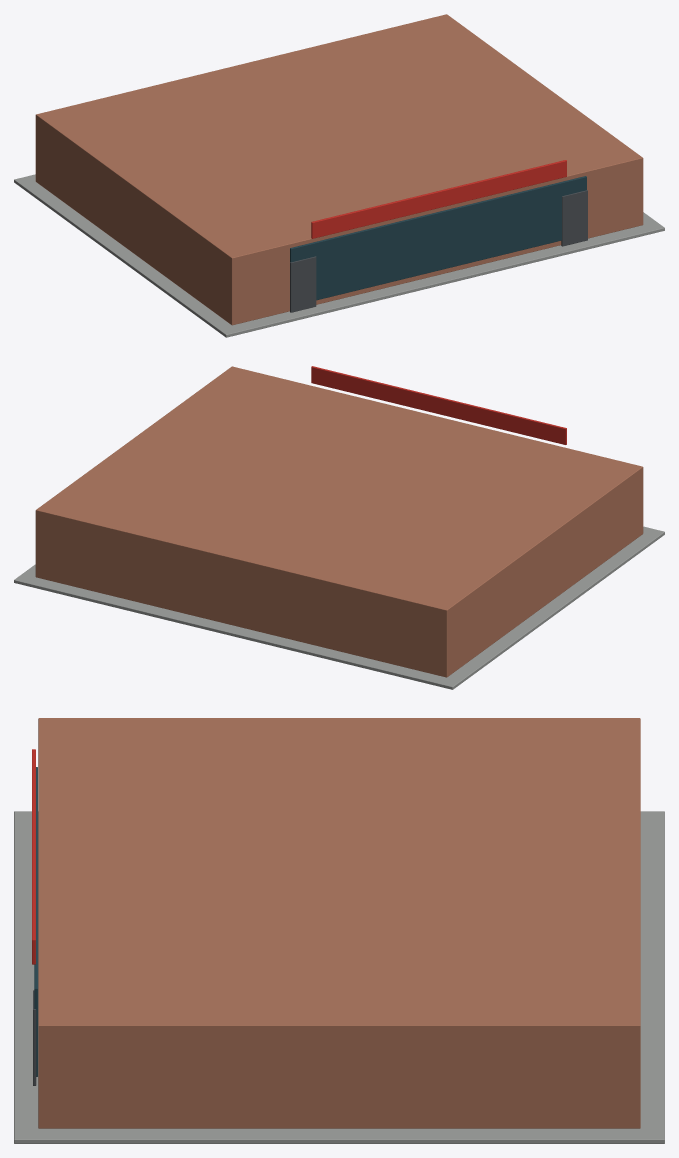
File: Building_Commercial_002.glb
The picture shows the model from 3 angles, top to bottom: view 1: azimuth 30°, elevation 25°; view 2: azimuth 150°, elevation 25°; view 3: azimuth 270°, elevation 25°; orthographic projection. The views are drawn at different scales.
Visible parts, largest first — view 1: Building_Commercial_002; view 2: Building_Commercial_002; view 3: Building_Commercial_002.
Part boxes in pixels (x1,y1,x2,y2): Building_Commercial_002: (14, 14, 664, 337); Building_Commercial_002: (14, 366, 664, 689); Building_Commercial_002: (14, 718, 664, 1143).
Size of the model in its own units: 23.81 by 4.59 by 19.95.
